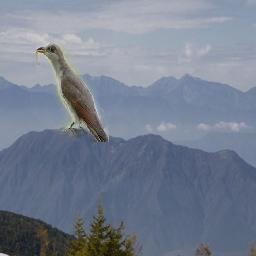Cuckoo: (37, 44, 110, 143)
